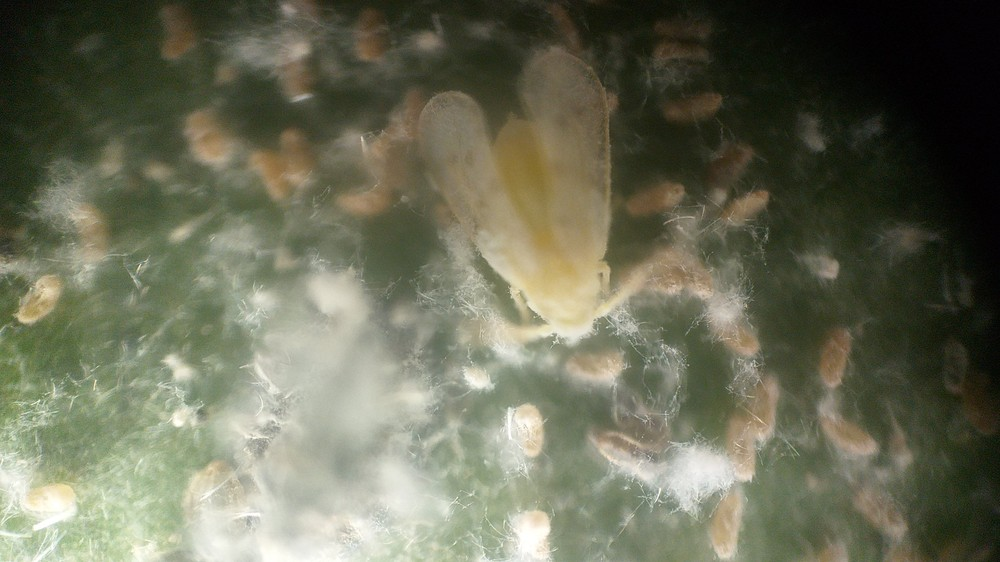Mosca Blanca: (393, 27, 680, 361)
